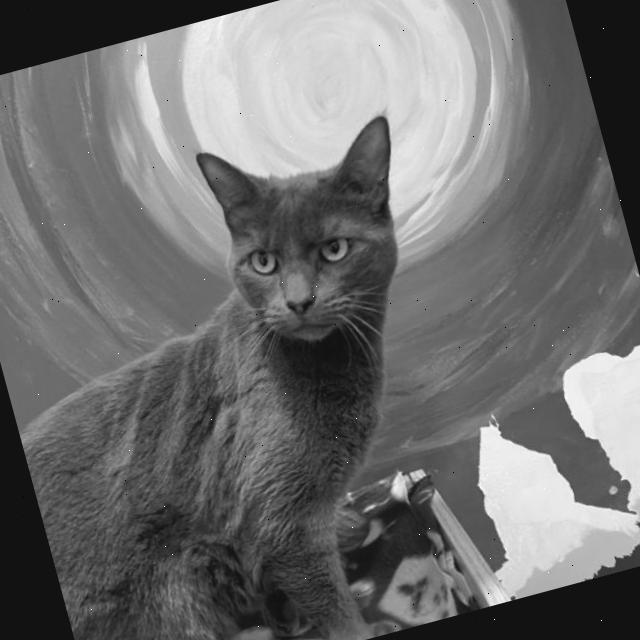russian_blue_cat: (132, 84, 465, 408)
